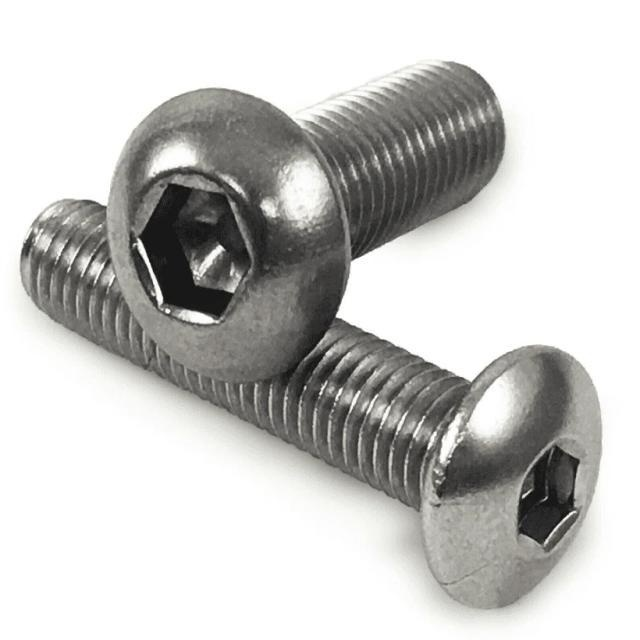allen: (135, 176, 256, 323), (513, 443, 584, 556)
